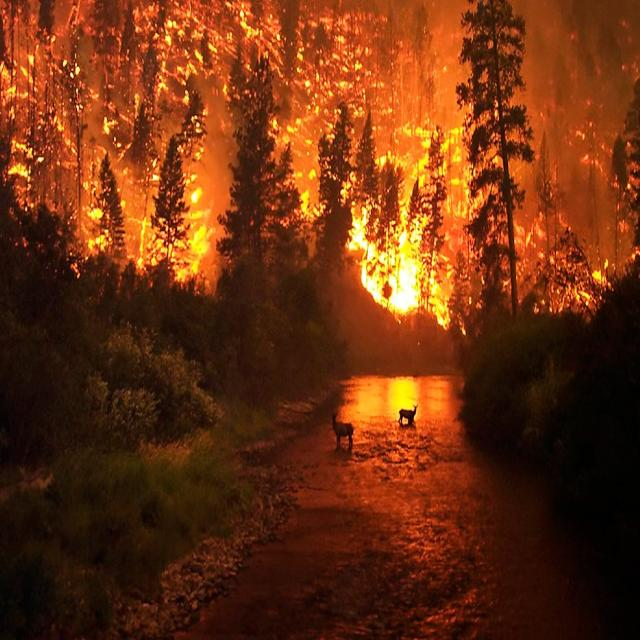Fire: (45, 26, 476, 334)
